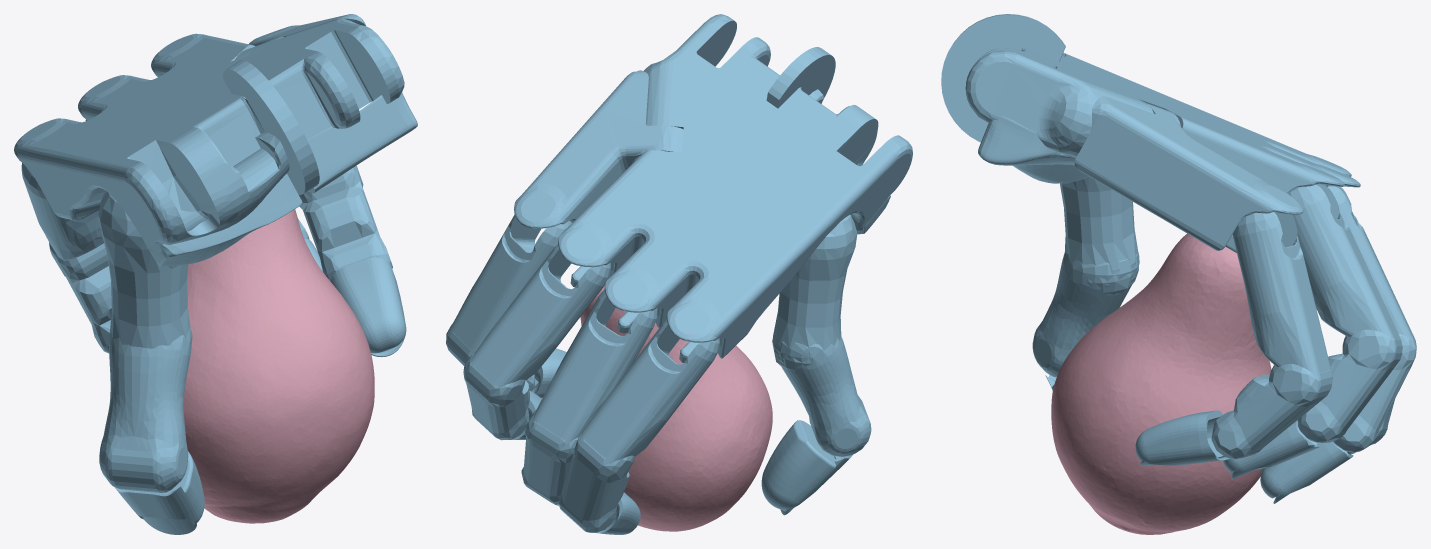
The model's file is Shadowhand_ycb+pear_mesh.glb.
3 renders of one model, left to right at view 1: azimuth 30°, elevation 25°; view 2: azimuth 150°, elevation 25°; view 3: azimuth 270°, elevation 25°, orthographic. The views are drawn at different scales.
Parts seen in each view (by area): view 1: world; view 2: world; view 3: world.
Boxes of the visible parts, box(x1,y1,x2,y2) form: world: box(14, 14, 417, 534); world: box(446, 14, 912, 534); world: box(941, 14, 1416, 534).
Size of the model in its own units: 0.1181 by 0.1576 by 0.1386.
